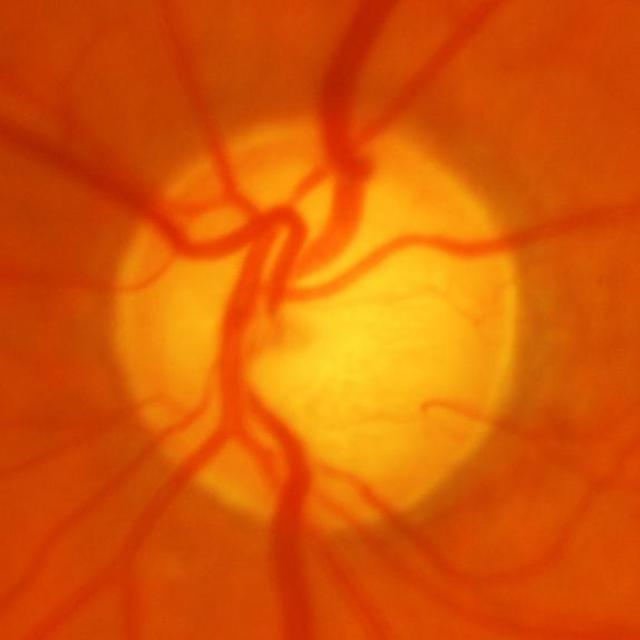OC: (170, 180, 450, 449)
OD: (109, 106, 524, 531)
